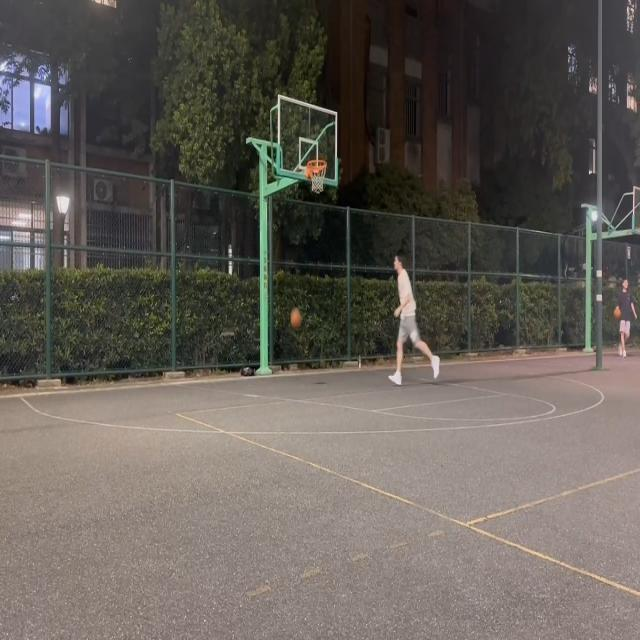basketball: (307, 160, 327, 194)
rim: (290, 308, 301, 327)
